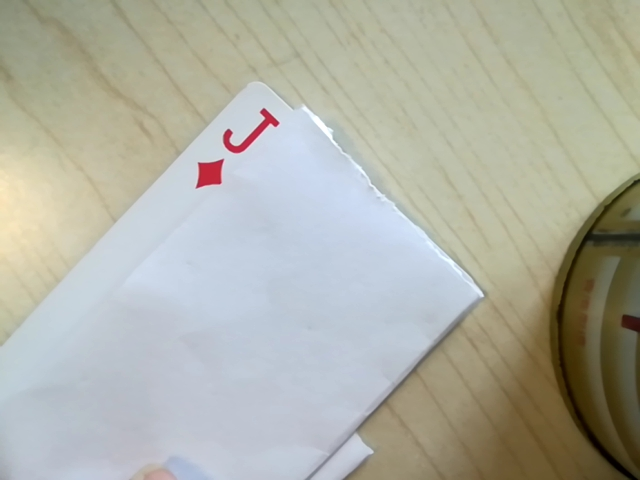fk j: (187, 107, 280, 191)
